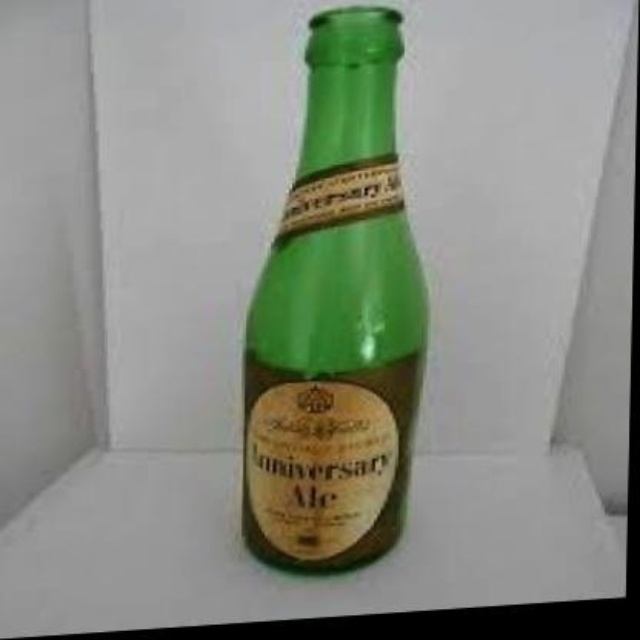trash: (243, 8, 426, 569)
